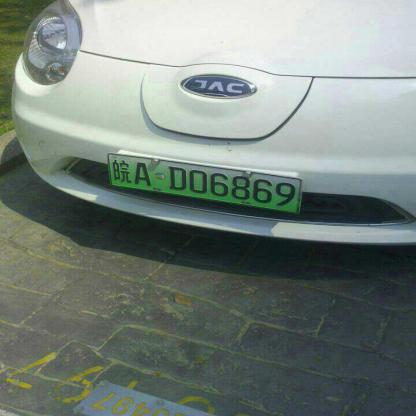lp: (107, 154, 300, 213)
